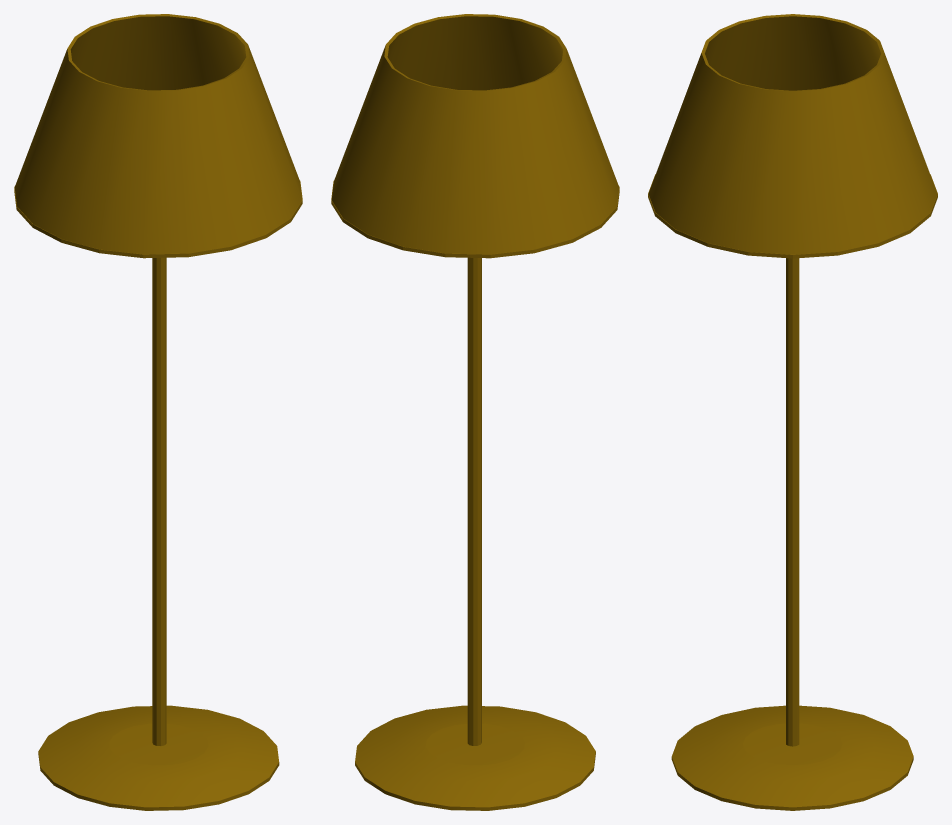
File: Lamp_01.fbx
3 renders of one model, left to right at view 1: azimuth 30°, elevation 25°; view 2: azimuth 150°, elevation 25°; view 3: azimuth 270°, elevation 25°, orthographic.
Visible parts, largest first — view 1: Lamp_01; view 2: Lamp_01; view 3: Lamp_01.
Boxes of the visible parts, x1,y1,x2,y2 form: Lamp_01: (14,14,302,810); Lamp_01: (331,14,619,810); Lamp_01: (648,14,937,810).
Size of the model in its own units: 65.47 by 176 by 65.47.
